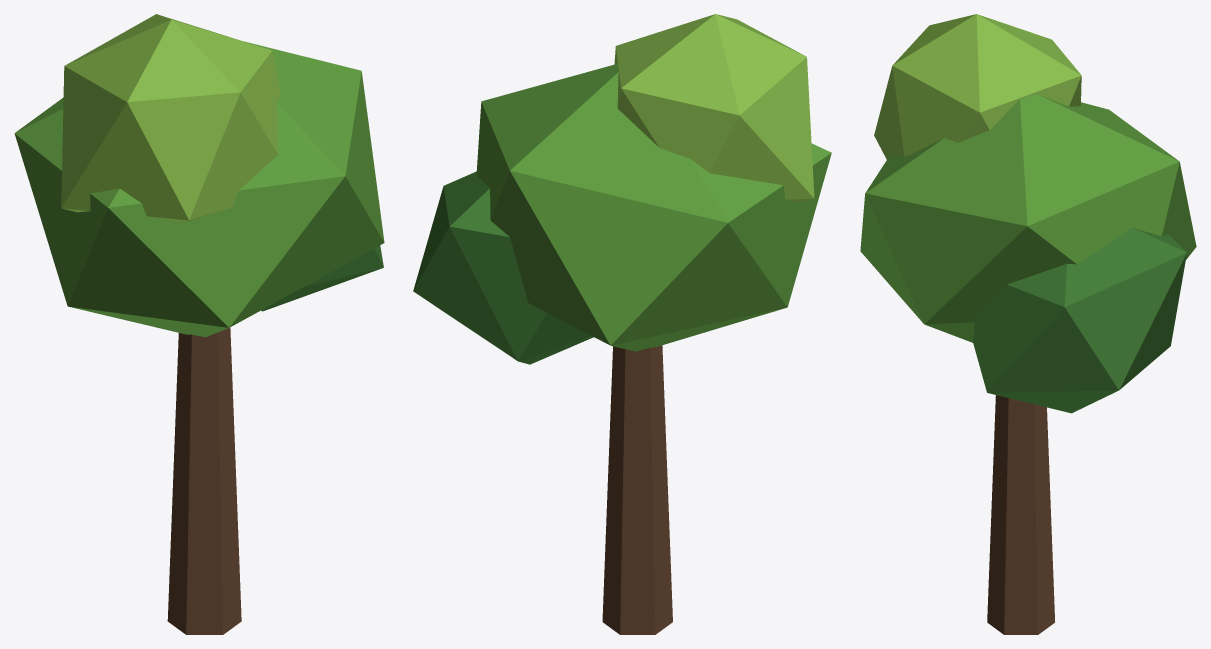
Rendered from tree_deciduous_small.glb.
3 renders of one model, left to right at view 1: azimuth 30°, elevation 25°; view 2: azimuth 150°, elevation 25°; view 3: azimuth 270°, elevation 25°, orthographic. The views are drawn at different scales.
Visible parts, largest first — view 1: tree_deciduous_small.001; view 2: tree_deciduous_small.001; view 3: tree_deciduous_small.001.
Part boxes in pixels (x1,y1,x2,y2): tree_deciduous_small.001: (14, 14, 384, 634); tree_deciduous_small.001: (413, 14, 831, 634); tree_deciduous_small.001: (860, 14, 1196, 634).
Bounding box in the file's own units: 1.69 × 2.95 × 1.54.
Materials: 1 (1 with a texture image).
